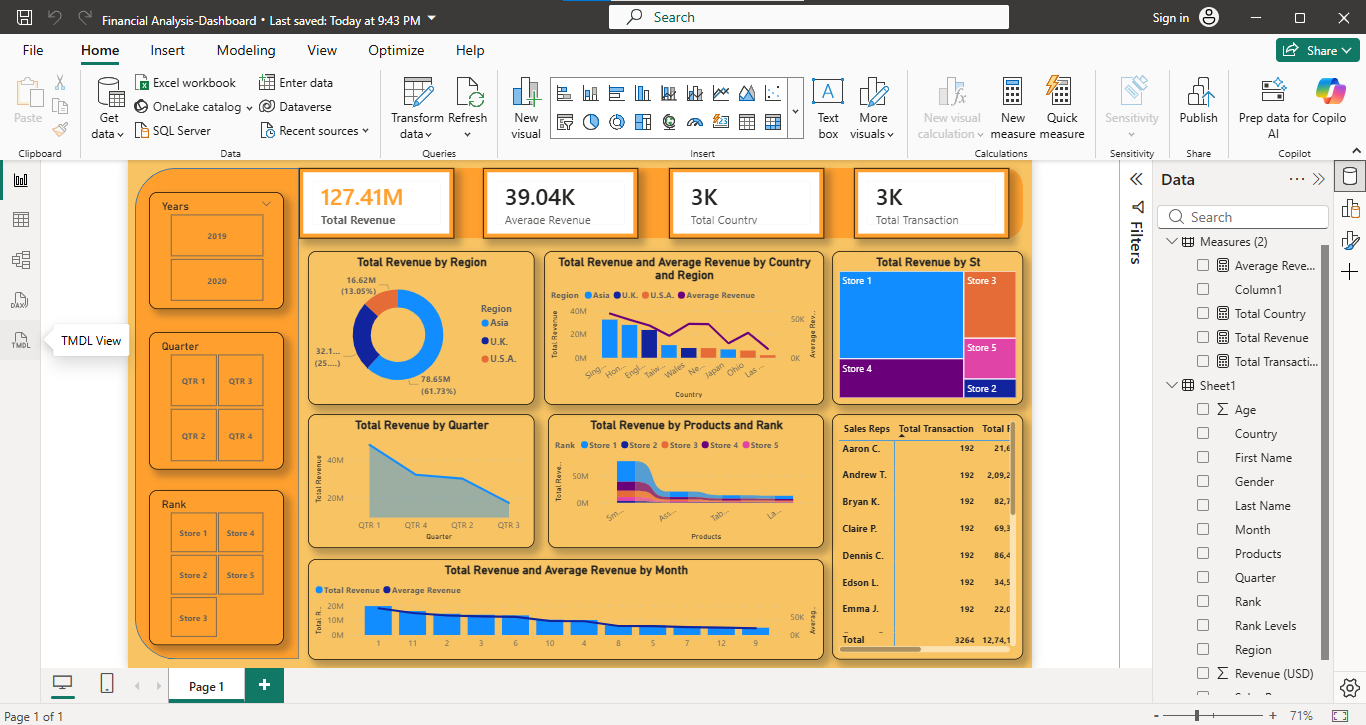

The dashboard page shown, as its layout file describes it:
{"tool":"powerbi","page":{"name":"Page 1","canvas":[1280,720],"ordinal":0},"visuals":[{"type":"shape","box":[10,11.4,232.6,696.4],"z":0},{"type":"shape","box":[242.6,11.4,1026,99.9],"z":1000},{"type":"cardVisual","fields":{"Data":["Measures (2).Total Revenue"]},"box":[242.6,11.4,219.8,99.9],"z":2000},{"type":"cardVisual","fields":{"Data":["Measures (2).Average Revenue"]},"box":[503.7,11.4,219.8,99.9],"z":3000},{"type":"cardVisual","fields":{"Data":["Measures (2).Total Country"]},"box":[766.3,11.4,219.8,99.9],"z":4000},{"type":"cardVisual","fields":{"Data":["Measures (2).Total Transaction"]},"box":[1028.9,11.4,219.8,99.9],"z":5000},{"type":"donutChart","fields":{"Category":["Sheet1.Region"],"Y":["Measures (2).Total Revenue"]},"box":[255.4,128.4,321.1,218.3],"z":6000},{"type":"lineStackedColumnComboChart","fields":{"Category":["Sheet1.Country"],"Series":["Sheet1.Region"],"Y":["Measures (2).Total Revenue"],"Y2":["Measures (2).Average Revenue"]},"box":[589.3,128.4,396.7,218.3],"z":7000},{"type":"treemap","title":"Total Revenue by St","fields":{"Group":["Sheet1.Rank"],"Values":["Measures (2).Total Revenue"]},"box":[997.5,128.4,271.1,218.3],"z":8000},{"type":"areaChart","fields":{"Category":["Sheet1.Quarter"],"Y":["Measures (2).Total Revenue"]},"box":[255.4,359.6,321.1,189.8],"z":9000},{"type":"ribbonChart","fields":{"Category":["Sheet1.Products"],"Series":["Sheet1.Rank"],"Y":["Measures (2).Total Revenue"]},"box":[595.1,359.6,391,189.8],"z":10000},{"type":"pivotTable","fields":{"Rows":["Sheet1.Sales Reps"],"Values":["Measures (2).Total Transaction","Measures (2).Total Revenue","Measures (2).Average Revenue"]},"box":[997.5,359.6,271.1,348.2],"z":11000},{"type":"lineStackedColumnComboChart","fields":{"Category":["Sheet1.Month"],"Y":["Measures (2).Total Revenue"],"Y2":["Measures (2).Average Revenue"]},"box":[255.4,565.1,730.6,142.7],"z":12000},{"type":"slicer","fields":{"Values":["Sheet1.Years"]},"box":[30.4,44.7,191.3,166.3],"z":13000},{"type":"slicer","fields":{"Values":["Sheet1.Quarter"]},"box":[30.4,243.1,191.3,194.9],"z":13001},{"type":"slicer","fields":{"Values":["Sheet1.Rank"]},"box":[30.4,468.4,191.3,219.9],"z":13002}]}

Visuals, with their boxes on the page's 1280x720 design canvas (x1, y1, x2, y2). These are canvas units, not pixel positions in the 1366x725 screenshot, which may show the page scaled, cropped or inside an application window:
shape: select_region(10, 11, 243, 708)
shape: select_region(243, 11, 1269, 111)
cardVisual - Measures (2).Total Revenue: select_region(243, 11, 462, 111)
cardVisual - Measures (2).Average Revenue: select_region(504, 11, 724, 111)
cardVisual - Measures (2).Total Country: select_region(766, 11, 986, 111)
cardVisual - Measures (2).Total Transaction: select_region(1029, 11, 1249, 111)
donutChart - Sheet1.Region x Measures (2).Total Revenue: select_region(255, 128, 576, 347)
lineStackedColumnComboChart - Sheet1.Country x Sheet1.Region: select_region(589, 128, 986, 347)
"Total Revenue by St" treemap: select_region(998, 128, 1269, 347)
areaChart - Sheet1.Quarter x Measures (2).Total Revenue: select_region(255, 360, 576, 549)
ribbonChart - Sheet1.Products x Sheet1.Rank: select_region(595, 360, 986, 549)
pivotTable - Sheet1.Sales Reps x Measures (2).Total Transaction: select_region(998, 360, 1269, 708)
lineStackedColumnComboChart - Sheet1.Month x Measures (2).Total Revenue: select_region(255, 565, 986, 708)
slicer - Sheet1.Years: select_region(30, 45, 222, 211)
slicer - Sheet1.Quarter: select_region(30, 243, 222, 438)
slicer - Sheet1.Rank: select_region(30, 468, 222, 688)
